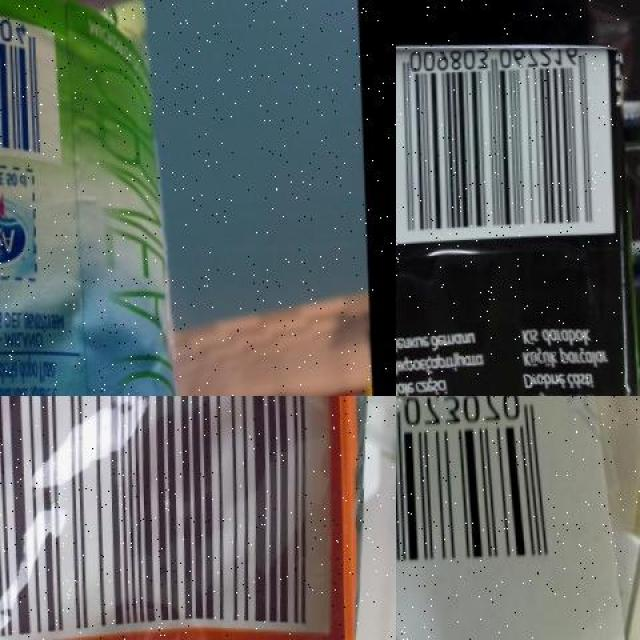Barcode: (0, 396, 336, 640), (396, 42, 608, 245), (396, 396, 564, 596), (0, 7, 56, 176)
